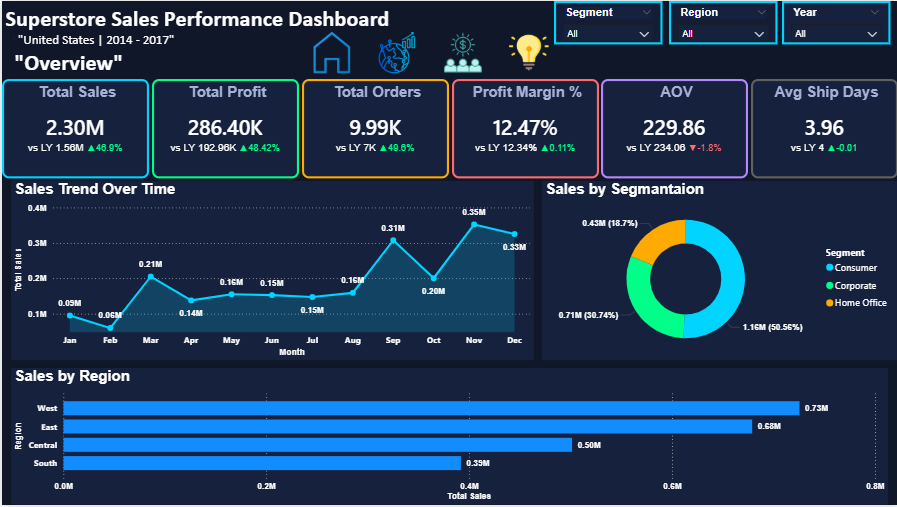

The page's visual inventory and layout, read from the dashboard file:
{"tool":"powerbi","page":{"name":"Overview","canvas":[1280,720],"ordinal":0},"visuals":[{"type":"cardVisual","title":"Total Sales","fields":{"Data":["Sample - Superstore.Total Sales"]},"box":[0.5,111.3,209.6,141.7],"z":0},{"type":"cardVisual","title":"Total Profit","fields":{"Data":["Sample - Superstore.Total Profit"]},"box":[214.5,111.3,209.6,141.7],"z":1000},{"type":"cardVisual","title":"Total Orders","fields":{"Data":["Sample - Superstore.Total Orders"]},"box":[428.4,111.3,209.6,141.7],"z":2000},{"type":"cardVisual","title":"Profit Margin %","fields":{"Data":["Sample - Superstore.Profit Margin %"]},"box":[642.4,111.3,209.6,141.7],"z":3000},{"type":"cardVisual","title":"AOV","fields":{"Data":["Sample - Superstore.Average Order Value"]},"box":[856.4,111.3,209.6,141.7],"z":4000},{"type":"lineChart","title":"Sales Trend Over Time","fields":{"Y":["Sample - Superstore.Total Sales"],"Category":["Date Table.Month"]},"box":[13,257.3,747.5,255.9],"z":5000},{"type":"clusteredBarChart","title":"Sales by Region","fields":{"Y":["Sample - Superstore.Total Sales"],"Category":["Sample - Superstore.Region"]},"box":[13,524.8,1253.5,195.2],"z":6000},{"type":"donutChart","title":"Sales by Region","fields":{"Y":["Sample - Superstore.Total Sales"],"Category":["Sample - Superstore.Segment"]},"box":[772,257.3,507.5,255.9],"z":7000},{"type":"textbox","box":[0,0,610.1,91.1],"z":8000},{"type":"cardVisual","title":"Avg Ship Days","fields":{"Data":["Sample - Superstore.AVG Shipping Days"]},"box":[1070.4,111.3,209.6,141.7],"z":9000},{"type":"image","box":[423.6,44.8,94,59.3],"z":10000},{"type":"image","box":[517.6,44.8,94,59.3],"z":11000},{"type":"image","box":[611.6,44.8,94,59.3],"z":12000},{"type":"slicer","fields":{"Values":["Date Table.Year"]},"box":[1114.7,0,154.7,62.2],"z":13000},{"type":"slicer","fields":{"Values":["Sample - Superstore.Region"]},"box":[952.8,0,154.7,62.2],"z":14000},{"type":"slicer","fields":{"Values":["Sample - Superstore.Segment"]},"box":[788,0,154.7,62.2],"z":15000},{"type":"image","box":[705.5,44.8,94,59.3],"z":16000},{"type":"textbox","box":[13,62.2,247.2,49.2],"z":16001}]}

Visuals, with their boxes in screenshot pixels (x1, y1, x2, y2), scaled from the page's 1280x720 canvas onto the 897x507 screenshot:
"Total Sales" cardVisual: <box>0,78,147,178</box>
"Total Profit" cardVisual: <box>150,78,297,178</box>
"Total Orders" cardVisual: <box>300,78,447,178</box>
"Profit Margin %" cardVisual: <box>450,78,597,178</box>
"AOV" cardVisual: <box>600,78,747,178</box>
"Sales Trend Over Time" lineChart: <box>9,181,533,361</box>
"Sales by Region" clusteredBarChart: <box>9,370,888,506</box>
"Sales by Region" donutChart: <box>541,181,896,361</box>
textbox: <box>0,0,428,64</box>
"Avg Ship Days" cardVisual: <box>750,78,896,178</box>
image: <box>297,32,363,73</box>
image: <box>363,32,429,73</box>
image: <box>429,32,494,73</box>
slicer - Date Table.Year: <box>781,0,890,44</box>
slicer - Sample - Superstore.Region: <box>668,0,776,44</box>
slicer - Sample - Superstore.Segment: <box>552,0,661,44</box>
image: <box>494,32,560,73</box>
textbox: <box>9,44,182,78</box>
